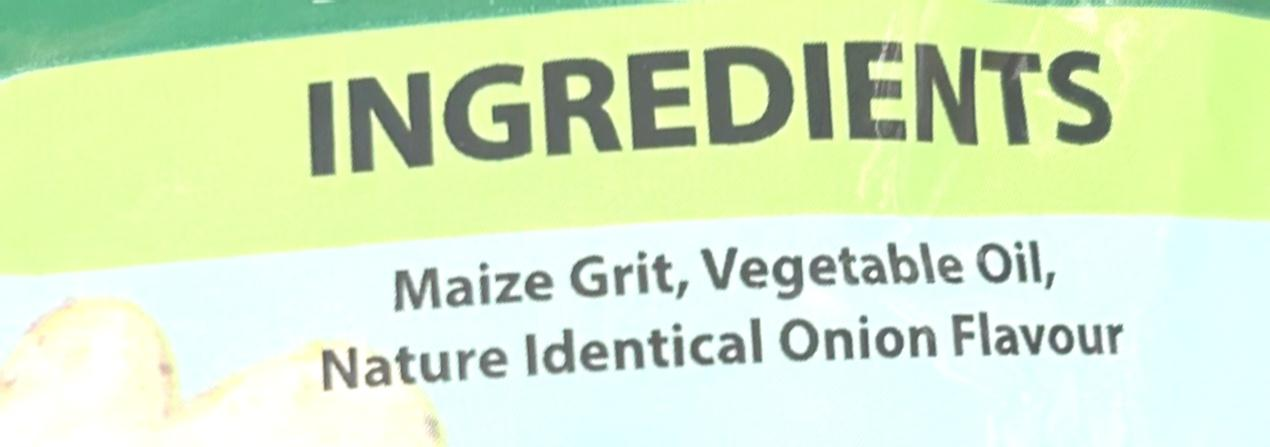ingredients: (268, 30, 1134, 424)
